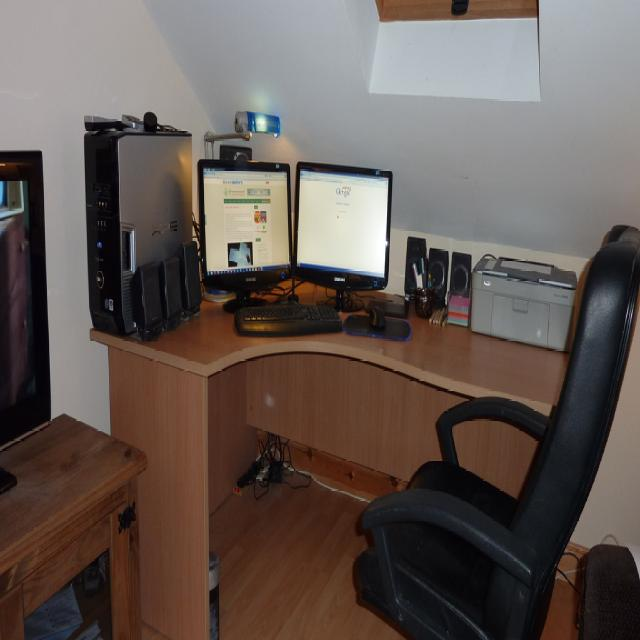chair: (354, 221, 640, 630)
desk: (90, 294, 566, 632)
keyboard: (234, 300, 342, 333)
tv: (0, 153, 52, 451), (293, 163, 393, 290), (198, 160, 292, 290)
